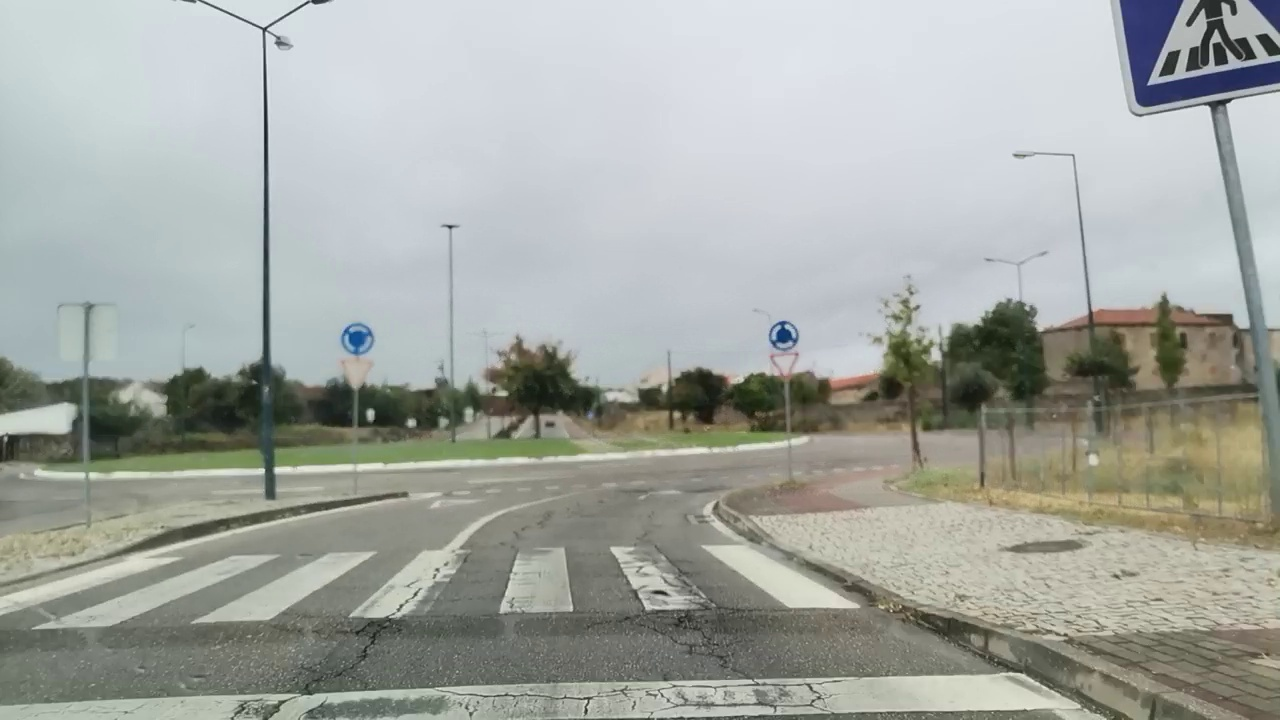Stairs: (0, 545, 860, 632)
